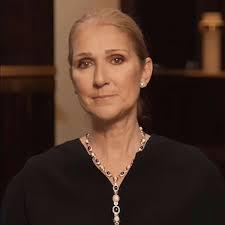Persons: (63, 9, 166, 139)
